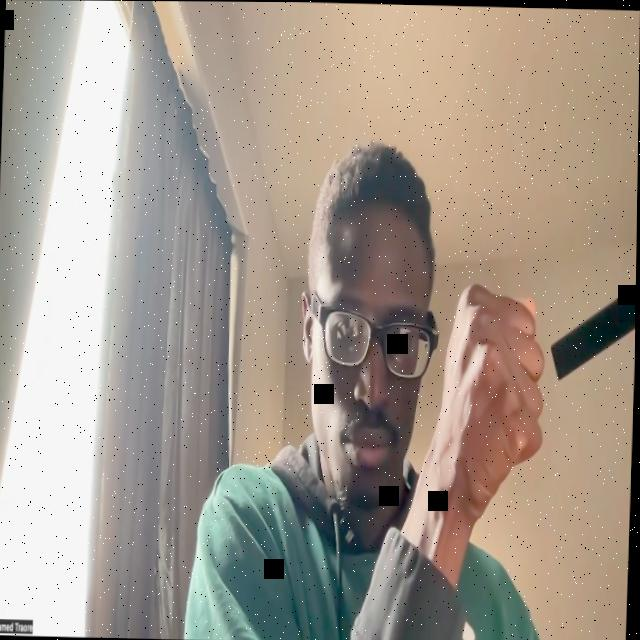Rock: (437, 282, 548, 511)
